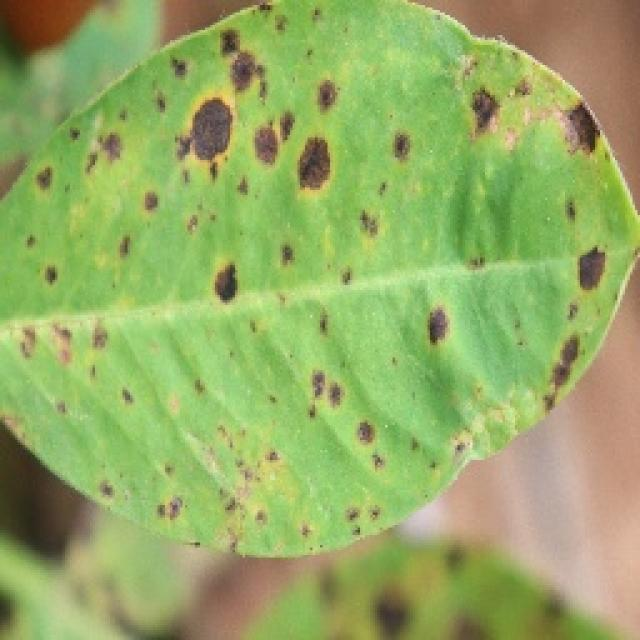Yellowish: (0, 0, 616, 564)
